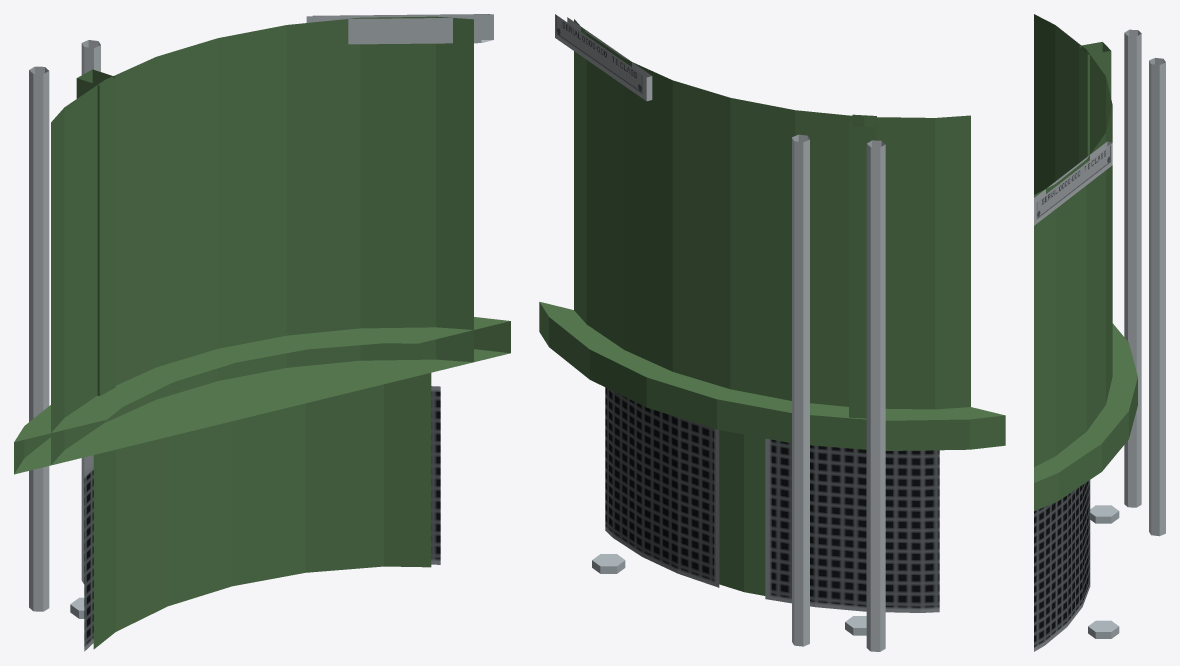
File: cell_32.obj
The picture shows the model from 3 angles, left to right: view 1: azimuth 30°, elevation 25°; view 2: azimuth 150°, elevation 25°; view 3: azimuth 270°, elevation 25°; orthographic projection. The views are drawn at different scales.
Bounding box in the file's own units: 0.9674 × 1 × 0.2538.
